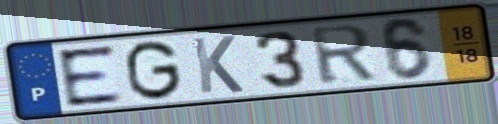3: (253, 30, 310, 90)
6: (380, 15, 435, 83)
E: (53, 42, 127, 109)
G: (124, 38, 185, 103)
K: (189, 33, 247, 96)
R: (307, 23, 380, 88)
